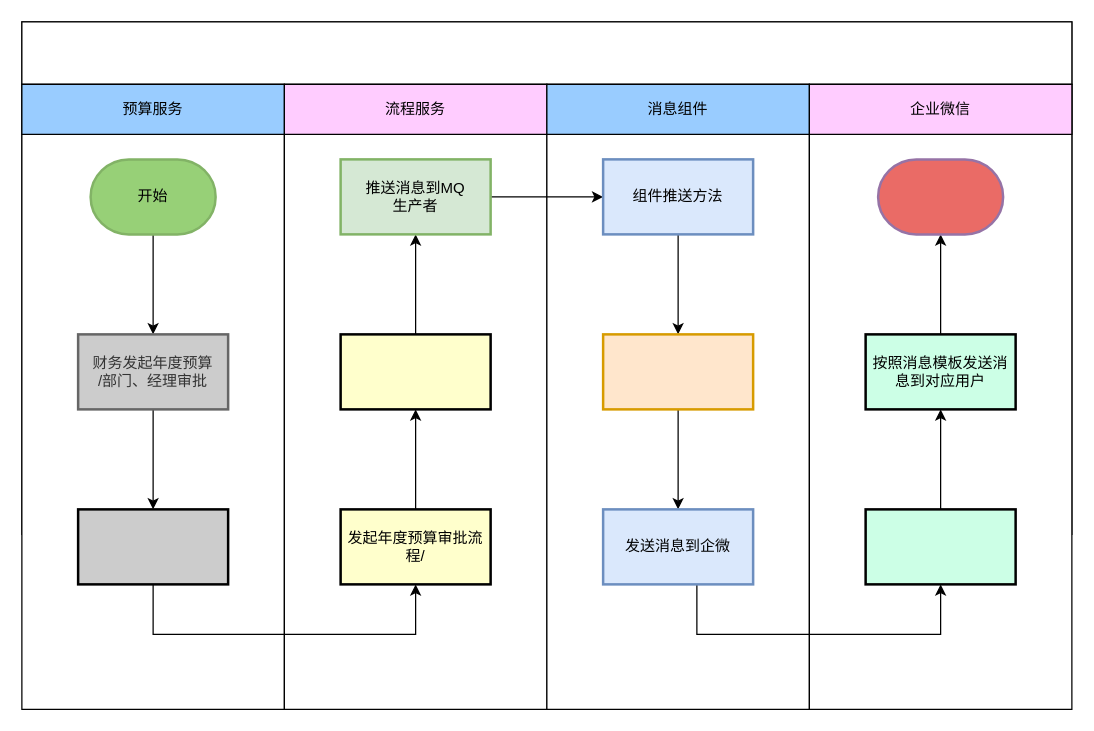
Image size: 1094x731. Some labels were removed from this diagram. The centre of each missing label's shape, as x and y in pixels:
"发起审批" belongs at point 152,546.
"消息回调配置" belongs at point 940,546.
"消费者监听topic消息 消费者" belongs at point 677,371.
"结束" belongs at point 940,196.
"预算审批提醒RocketMQ流程图" belongs at point 546,52.
"预算审批监听器" belongs at point 415,371.
